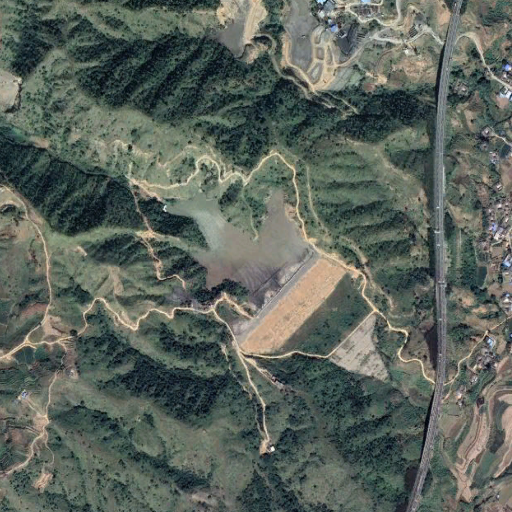tp: (152, 170, 393, 382)
